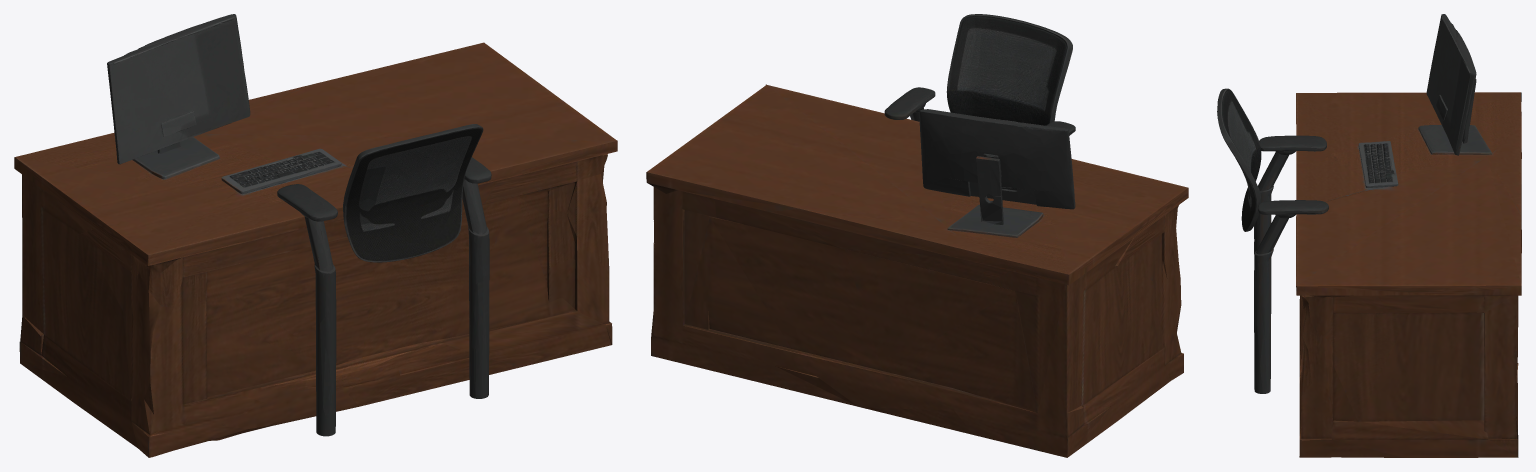
File: kotib-stoli.glb
The picture shows the model from 3 angles, left to right: view 1: azimuth 30°, elevation 25°; view 2: azimuth 150°, elevation 25°; view 3: azimuth 270°, elevation 25°; orthographic projection. The views are drawn at different scales.
Visible parts, largest first — view 1: output_unwrapped; view 2: output_unwrapped; view 3: output_unwrapped.
Boxes of the visible parts, x1,y1,x2,y2 form: output_unwrapped: (14,14,617,457); output_unwrapped: (646,14,1188,457); output_unwrapped: (1217,14,1521,457).
Size of the model in its own units: 1.5 by 0.9816 by 0.9969.
1 material, 1 textured.
